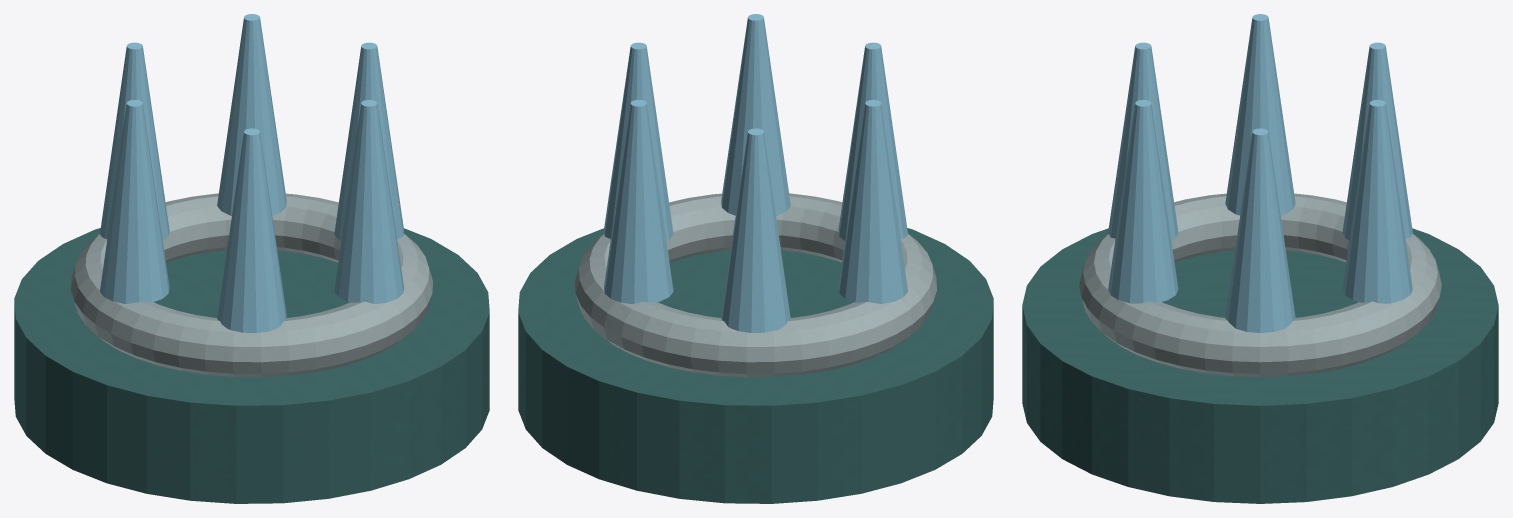
Rendered from burner.glb.
3 views of the same model, side by side, from view 1: azimuth 30°, elevation 25°; view 2: azimuth 150°, elevation 25°; view 3: azimuth 270°, elevation 25° (orthographic).
Parts seen in each view (by area): view 1: Burner_Base, Burner_Ring, Flame_Visual.004, Flame_Visual.005, Flame_Visual.003, Flame_Visual.001, Flame_Visual.002, Flame_Visual; view 2: Burner_Base, Burner_Ring, Flame_Visual.002, Flame_Visual.001, Flame_Visual.003, Flame_Visual.005, Flame_Visual.004, Flame_Visual; view 3: Burner_Base, Burner_Ring, Flame_Visual.001, Flame_Visual.005, Flame_Visual, Flame_Visual.003, Flame_Visual.002, Flame_Visual.004.
Boxes of the visible parts, x1,y1,x2,y2 form: Burner_Base: (14,228,489,503); Burner_Ring: (71,193,432,377); Flame_Visual.004: (217,128,286,332); Flame_Visual.005: (334,100,403,303); Flame_Visual.003: (100,100,169,303); Flame_Visual.001: (217,14,286,215); Flame_Visual.002: (100,42,169,240); Flame_Visual: (334,42,403,240); Burner_Base: (518,228,993,503); Burner_Ring: (575,193,936,377); Flame_Visual.002: (721,128,790,332); Flame_Visual.001: (604,100,673,303); Flame_Visual.003: (838,100,907,303); Flame_Visual.005: (721,14,790,215); Flame_Visual.004: (838,42,907,240); Flame_Visual: (604,42,673,240); Burner_Base: (1022,228,1498,503); Burner_Ring: (1079,193,1441,377); Flame_Visual.001: (1342,99,1412,303); Flame_Visual.005: (1108,99,1178,303); Flame_Visual: (1225,128,1295,332); Flame_Visual.003: (1225,14,1295,215); Flame_Visual.002: (1342,42,1412,240); Flame_Visual.004: (1108,42,1178,240).
Bounding box in the file's own units: 0.88 × 0.67 × 0.88.
3 materials, 3 textured.
